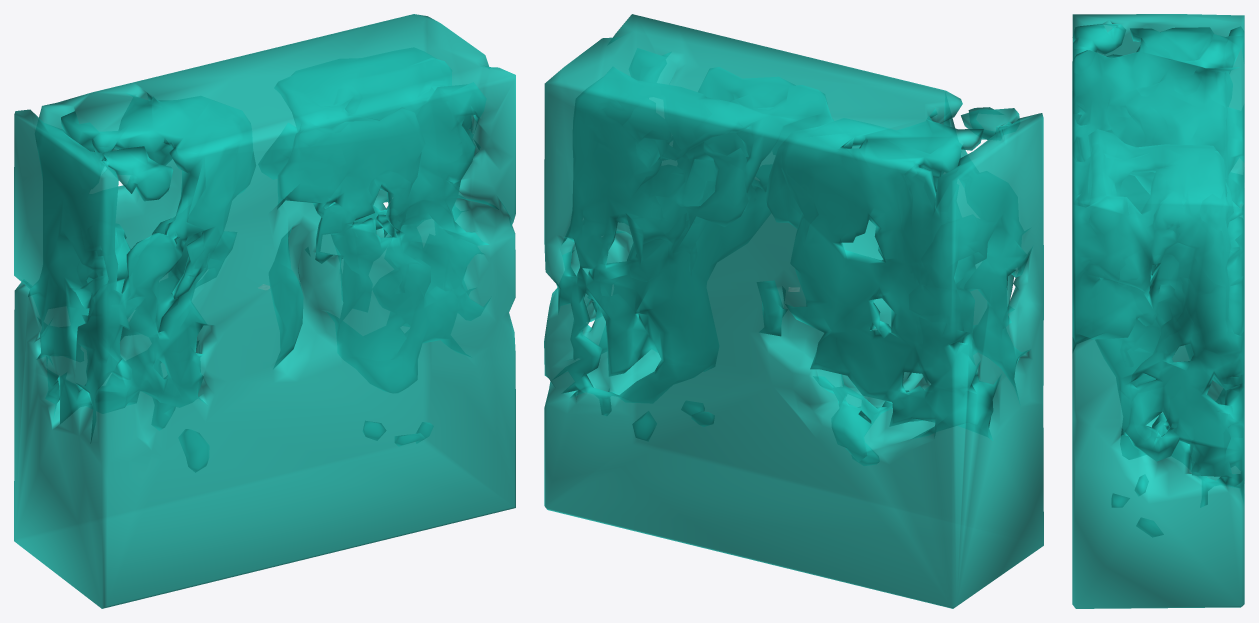
The picture shows the model from 3 angles, left to right: view 1: azimuth 30°, elevation 25°; view 2: azimuth 150°, elevation 25°; view 3: azimuth 270°, elevation 25°; orthographic projection. The views are drawn at different scales.
Parts seen in each view (by area): view 1: Liquid_Domain; view 2: Liquid_Domain; view 3: Liquid_Domain.
Part boxes in pixels (x1=…): Liquid_Domain: x1=14, y1=14, x2=515, y2=608; Liquid_Domain: x1=544, y1=14, x2=1043, y2=608; Liquid_Domain: x1=1072, y1=14, x2=1244, y2=608.
Bounding box in the file's own units: 1949 × 1948 × 749.
